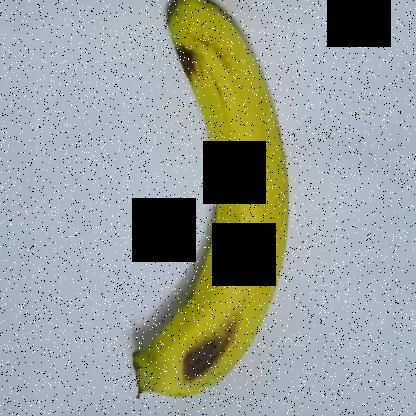freshripe: (115, 1, 304, 414)
